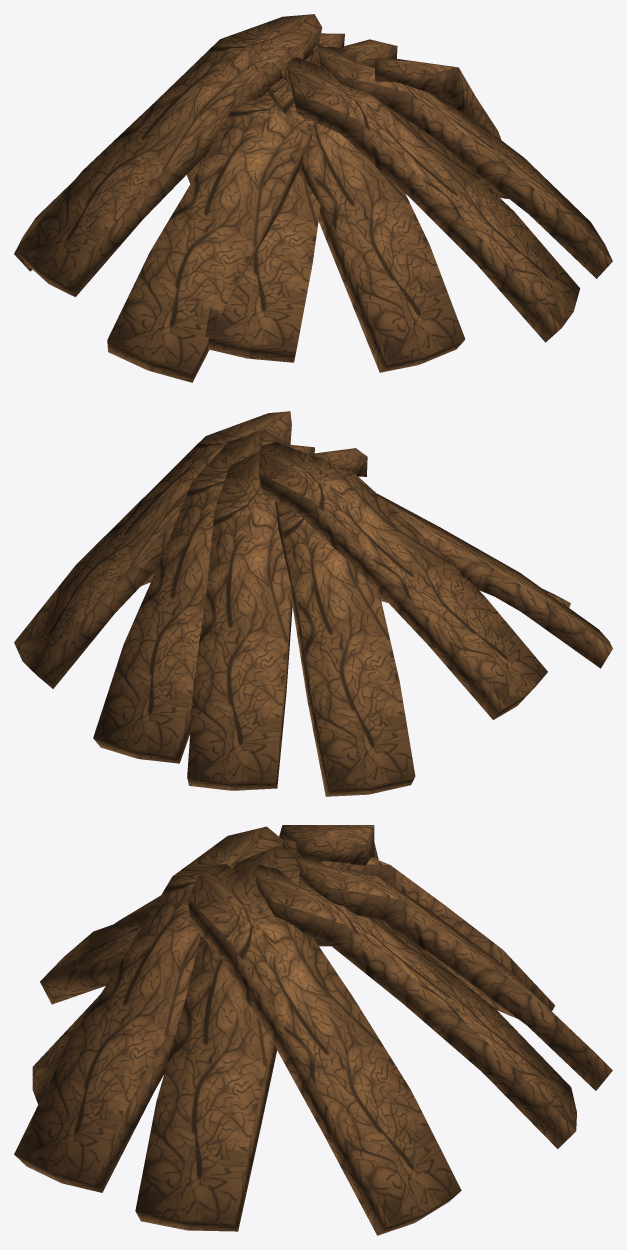
Rendered from bulgogi.fbx.
3 views of the same model, one above another, from view 1: azimuth 30°, elevation 25°; view 2: azimuth 150°, elevation 25°; view 3: azimuth 270°, elevation 25° (orthographic). The views are drawn at different scales.
Parts seen in each view (by area): view 1: bulgogi strip; view 2: bulgogi strip; view 3: bulgogi strip.
Part boxes in pixels (x1,y1,x2,y2): bulgogi strip: (14,14,612,382); bulgogi strip: (14,411,612,796); bulgogi strip: (14,825,612,1235).
Bounding box in the file's own units: 44.16 × 20.74 × 40.09.
